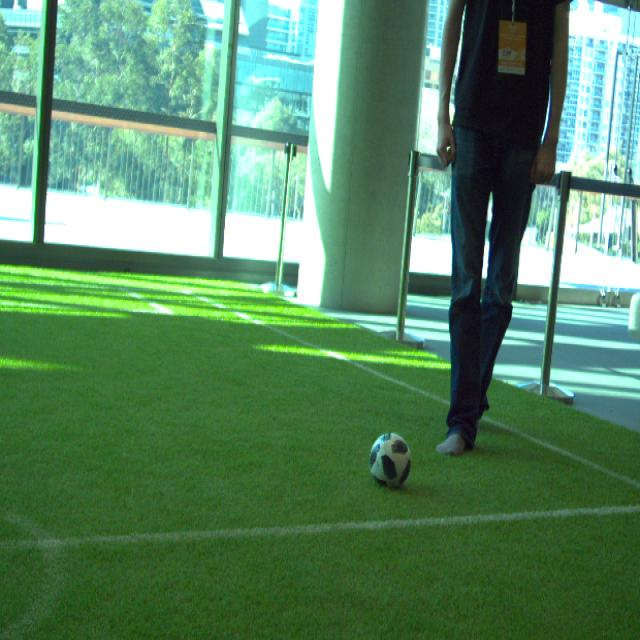ball: (369, 432, 412, 491)
